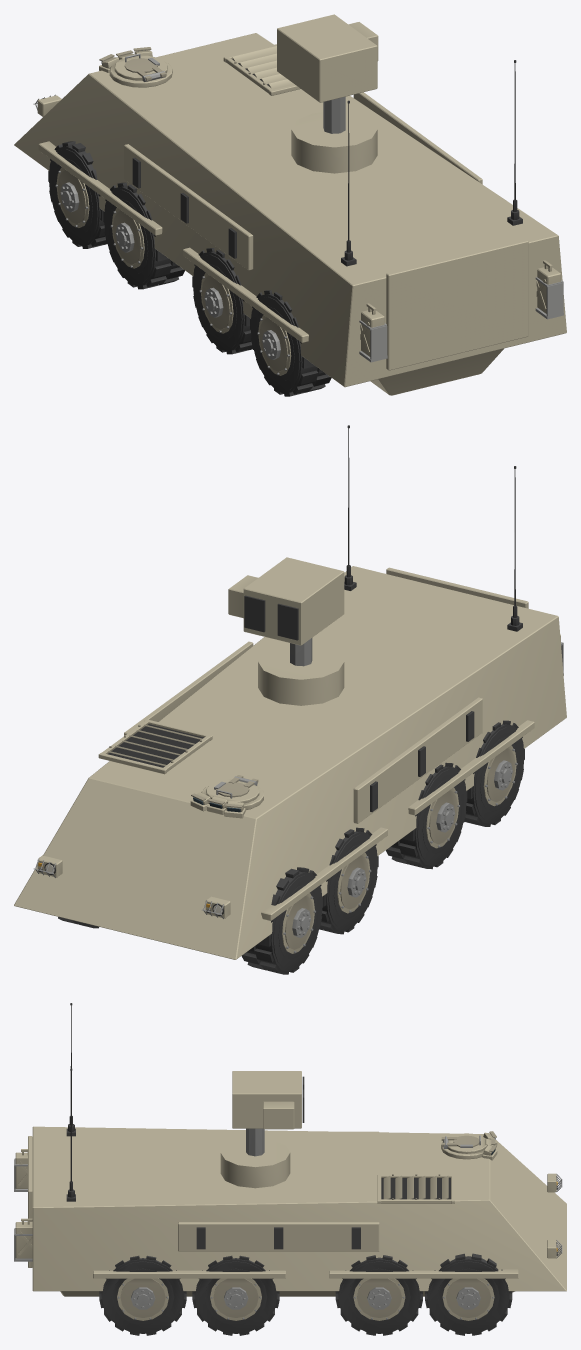
Rendered from usa_td_atgm.glb.
The picture shows the model from 3 angles, top to bottom: view 1: azimuth 30°, elevation 25°; view 2: azimuth 150°, elevation 25°; view 3: azimuth 270°, elevation 25°; orthographic projection. The views are drawn at different scales.
Parts seen in each view (by area): view 1: body, barrel, turret, wheel_2, wheel_6, wheel_0, wheel_4; view 2: body, barrel, turret, wheel_0, wheel_4, wheel_6, wheel_2; view 3: body, wheel_1, wheel_3, wheel_5, wheel_7, barrel, turret.
Part boxes in pixels (<box>): body: <box>14,33,566,395</box>; barrel: <box>277,14,378,102</box>; turret: <box>291,96,377,173</box>; wheel_2: <box>103,182,184,289</box>; wheel_6: <box>250,290,331,396</box>; wheel_0: <box>48,141,107,248</box>; wheel_4: <box>192,248,252,354</box>; body: <box>14,425,566,959</box>; barrel: <box>228,557,344,645</box>; turret: <box>258,638,344,705</box>; wheel_0: <box>241,867,323,974</box>; wheel_4: <box>386,762,467,869</box>; wheel_6: <box>464,720,524,826</box>; wheel_2: <box>319,827,378,934</box>; body: <box>14,1003,566,1296</box>; wheel_1: <box>425,1253,512,1335</box>; wheel_3: <box>335,1255,422,1335</box>; wheel_5: <box>192,1255,279,1335</box>; wheel_7: <box>99,1255,186,1335</box>; barrel: <box>232,1071,304,1129</box>; turret: <box>220,1128,290,1188</box>.
Bounding box in the file's own units: 2.88 × 3.65 × 7.13.
